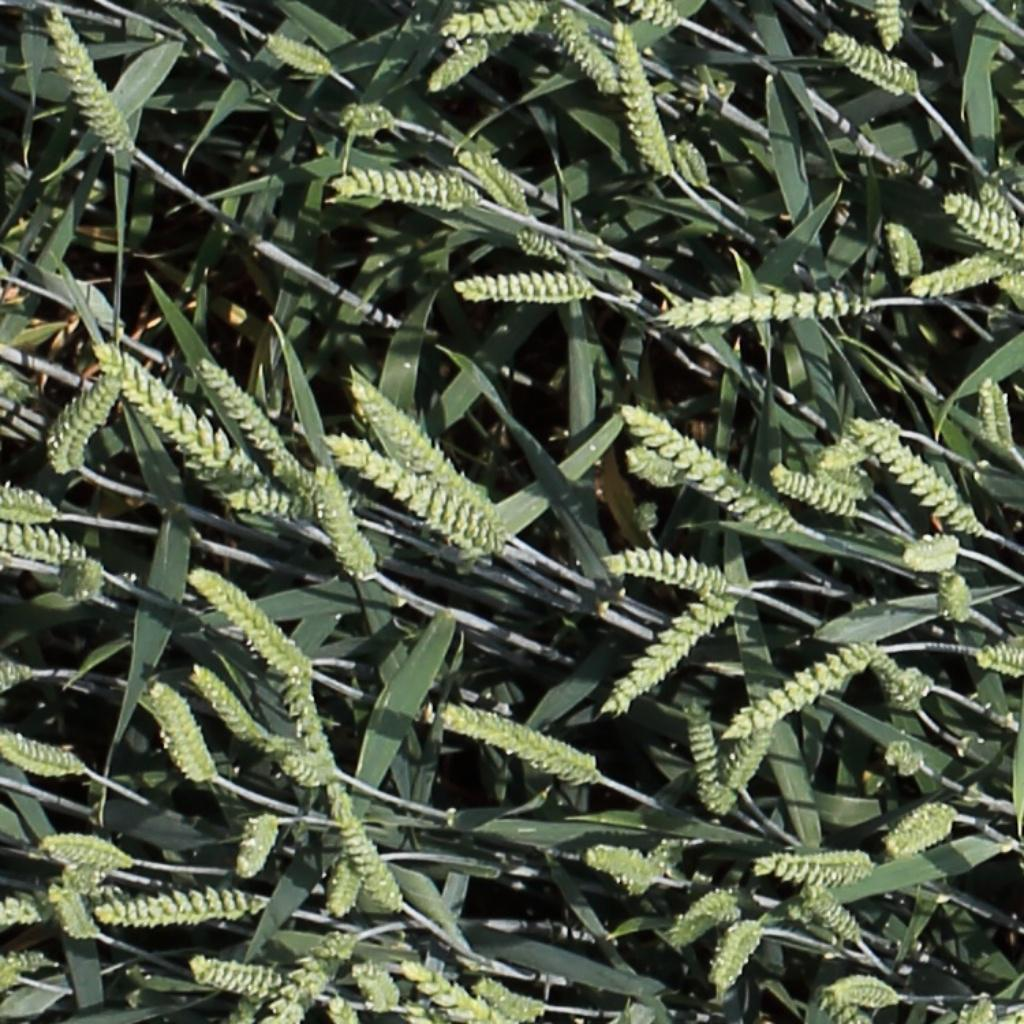0-0: (623, 406, 800, 531), (348, 375, 492, 513), (101, 352, 255, 480), (600, 579, 737, 720), (333, 441, 495, 547), (847, 412, 984, 529), (40, 0, 133, 157), (192, 352, 304, 477), (189, 569, 308, 677), (729, 649, 866, 740), (656, 276, 871, 330), (438, 707, 599, 778), (324, 783, 405, 920), (254, 932, 370, 1024), (614, 17, 675, 180), (49, 371, 125, 473), (315, 464, 375, 582), (548, 4, 623, 98), (148, 681, 214, 785), (188, 663, 267, 746), (279, 658, 335, 774), (400, 958, 494, 1022), (685, 699, 733, 816), (458, 143, 532, 217), (946, 191, 1022, 263), (827, 34, 921, 92), (709, 914, 768, 1000), (757, 843, 872, 887), (454, 271, 592, 306), (865, 641, 929, 715), (0, 523, 92, 573), (724, 718, 780, 800), (771, 468, 861, 517), (610, 554, 729, 591), (242, 431, 316, 489), (887, 799, 958, 858), (806, 884, 869, 950), (333, 172, 477, 200), (912, 255, 1014, 293), (0, 734, 84, 778), (47, 877, 101, 943), (427, 38, 492, 90), (673, 894, 741, 943), (237, 811, 282, 884), (188, 958, 283, 991), (976, 371, 1014, 453), (48, 553, 111, 602), (884, 212, 925, 286), (349, 957, 401, 1015), (628, 449, 695, 494), (475, 977, 546, 1019), (585, 850, 659, 890), (264, 32, 335, 73), (670, 129, 716, 192), (43, 839, 132, 871), (443, 8, 543, 34), (976, 173, 1022, 229), (834, 969, 902, 1006), (0, 478, 58, 520), (902, 532, 961, 573), (939, 566, 976, 630), (0, 883, 40, 941), (225, 492, 305, 521), (327, 857, 359, 925), (171, 271, 195, 361), (516, 225, 567, 262), (279, 756, 333, 789), (820, 989, 866, 1024), (879, 0, 905, 55), (0, 664, 34, 704), (625, 0, 679, 25), (323, 988, 359, 1024), (974, 651, 1024, 674), (342, 106, 397, 124)
